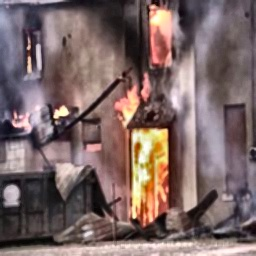fire: (128, 128, 169, 217), (119, 66, 165, 121), (148, 10, 175, 64)
